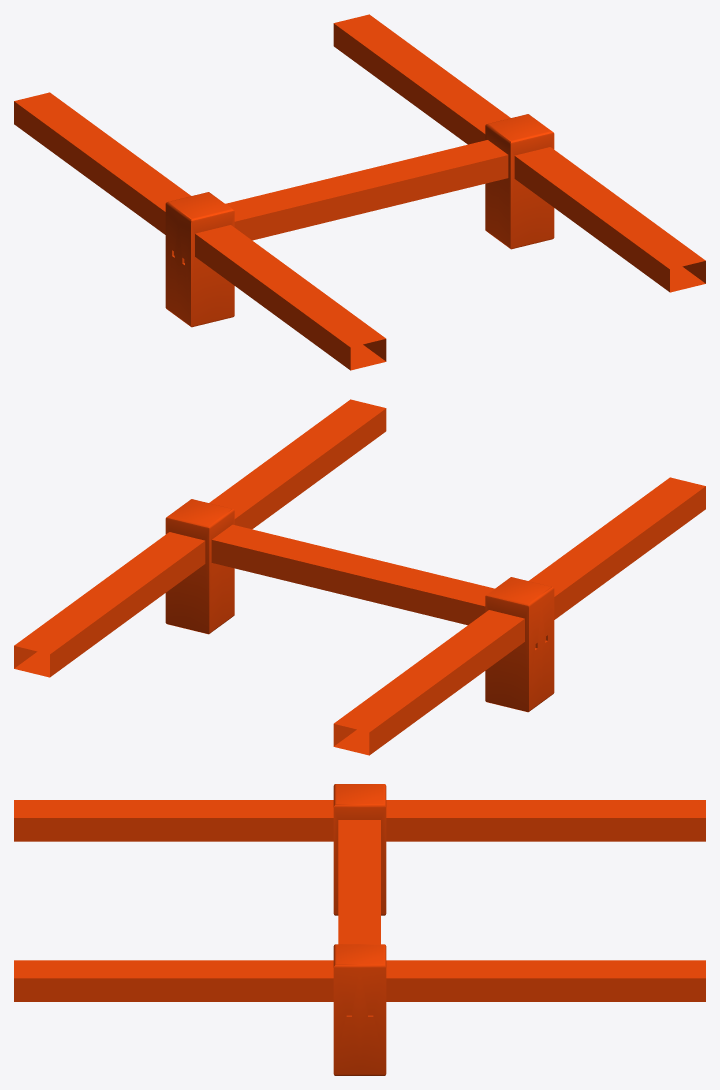
The model's file is Shelf_06_Mid_Under_01.glb.
3 views of the same model, one above another, from view 1: azimuth 30°, elevation 25°; view 2: azimuth 150°, elevation 25°; view 3: azimuth 270°, elevation 25° (orthographic). The views are drawn at different scales.
Parts seen in each view (by area): view 1: Mesh_Shelf_06_Mid_Under_01; view 2: Mesh_Shelf_06_Mid_Under_01; view 3: Mesh_Shelf_06_Mid_Under_01.
Part boxes in pixels (x1,y1,x2,y2): Mesh_Shelf_06_Mid_Under_01: (14, 14, 705, 370); Mesh_Shelf_06_Mid_Under_01: (14, 399, 705, 755); Mesh_Shelf_06_Mid_Under_01: (14, 784, 705, 1075).
Size of the model in its own units: 1.01 by 0.2884 by 1.62.
Materials: 1 (1 with a texture image).
